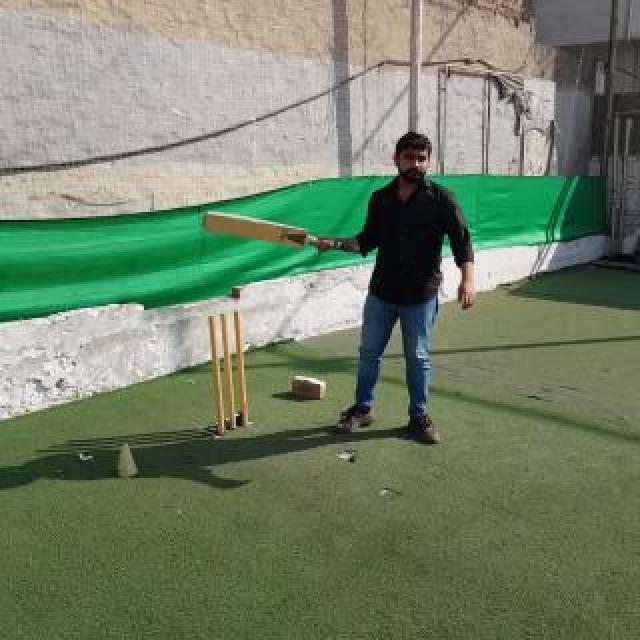bat: (203, 211, 359, 251)
